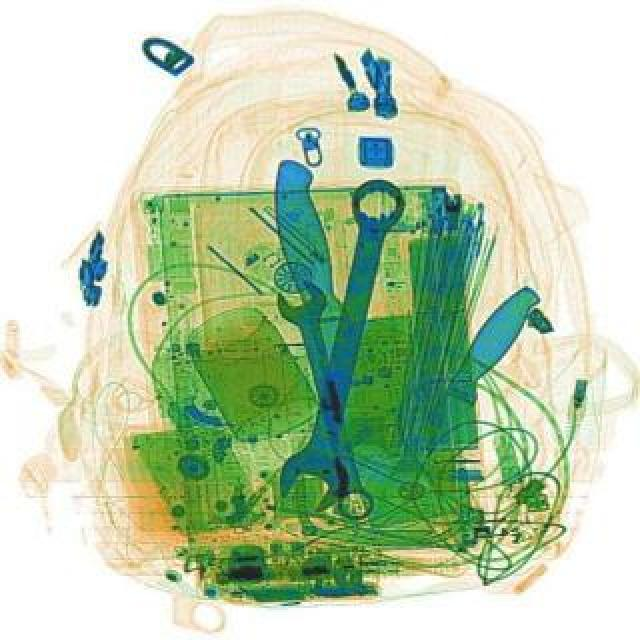knife: (262, 140, 476, 536), (354, 276, 544, 526)
scissors: (270, 172, 426, 514), (270, 278, 386, 526)
